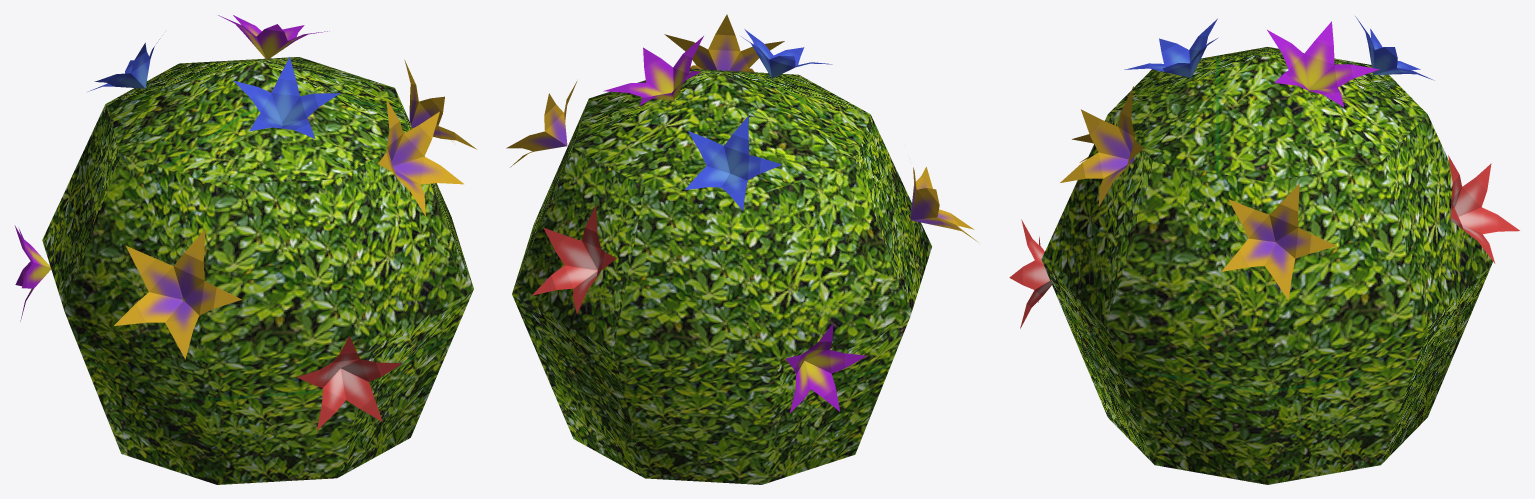
Rendered from VEG0310041.fbx.
The picture shows the model from 3 angles, left to right: view 1: azimuth 30°, elevation 25°; view 2: azimuth 150°, elevation 25°; view 3: azimuth 270°, elevation 25°; orthographic projection. The views are drawn at different scales.
Visible parts, largest first — view 1: smVEG0310041; view 2: smVEG0310041; view 3: smVEG0310041.
Part boxes in pixels (<box>): smVEG0310041: <box>14,15,476,484</box>; smVEG0310041: <box>506,14,978,484</box>; smVEG0310041: <box>1009,16,1519,484</box>.
Size of the model in its own units: 73.41 by 66.4 by 77.49.
Materials: 1 (1 with a texture image).
